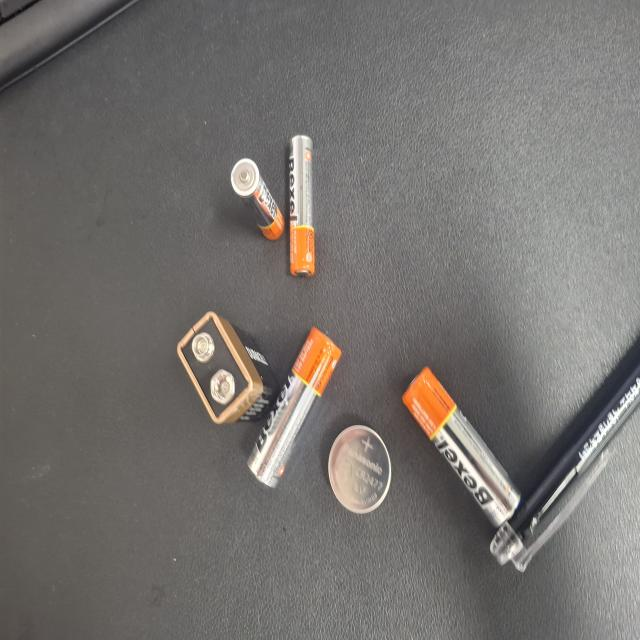9V: (162, 237, 246, 368)
AA: (114, 330, 234, 456), (84, 536, 204, 640)
AAA: (300, 308, 361, 380), (272, 384, 378, 420)
COIN: (95, 438, 161, 522)
